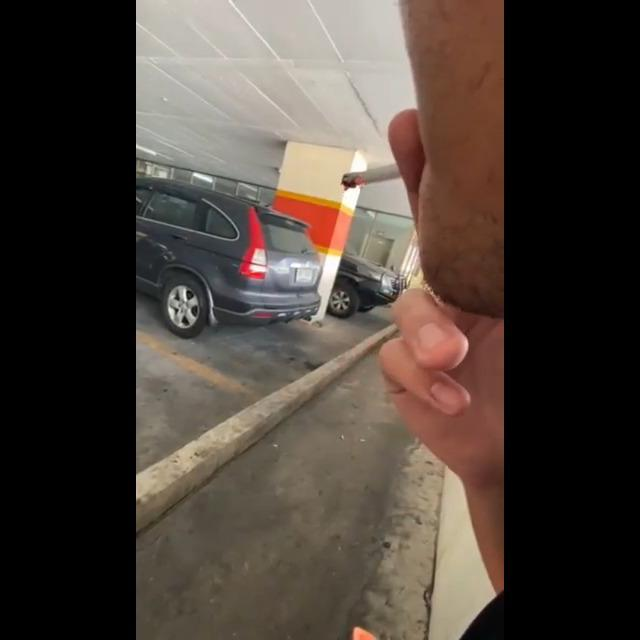rokok: (334, 153, 426, 194)
